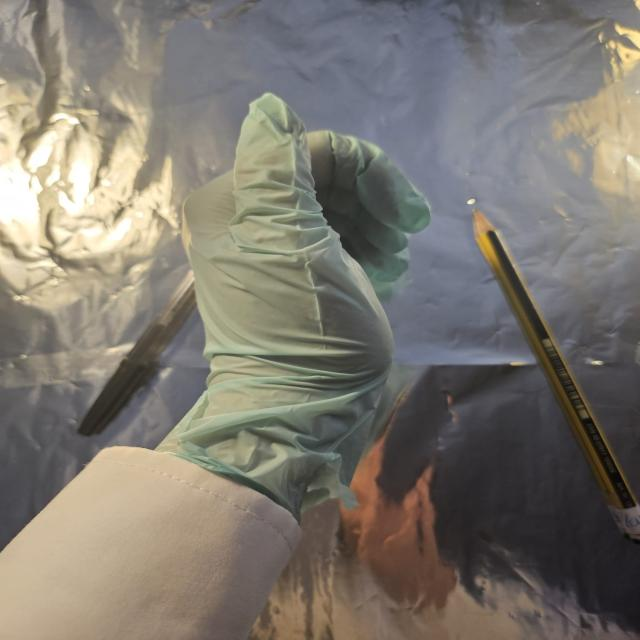gloves_damaged: (147, 89, 437, 521)
